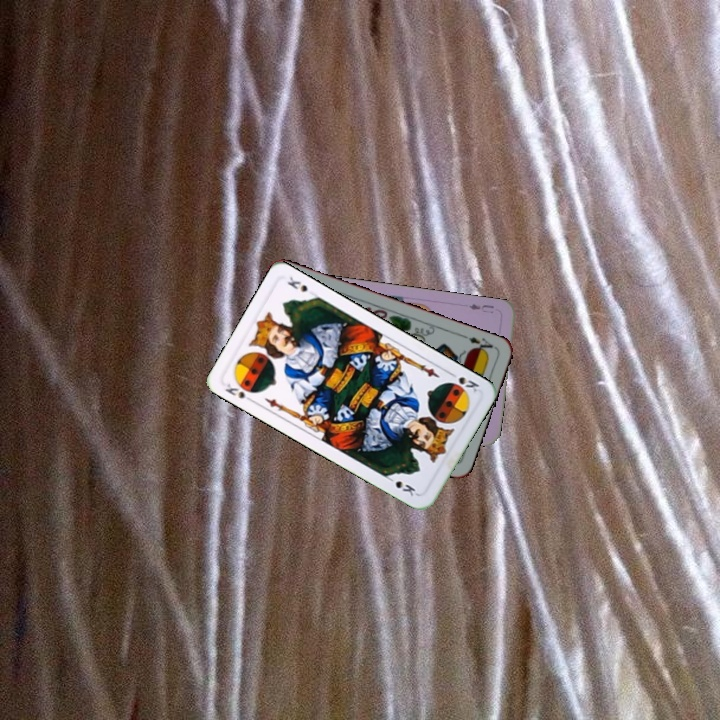EA: (458, 331, 498, 356)
EU: (465, 300, 496, 316)
SK: (221, 377, 259, 404), (445, 368, 482, 395)
